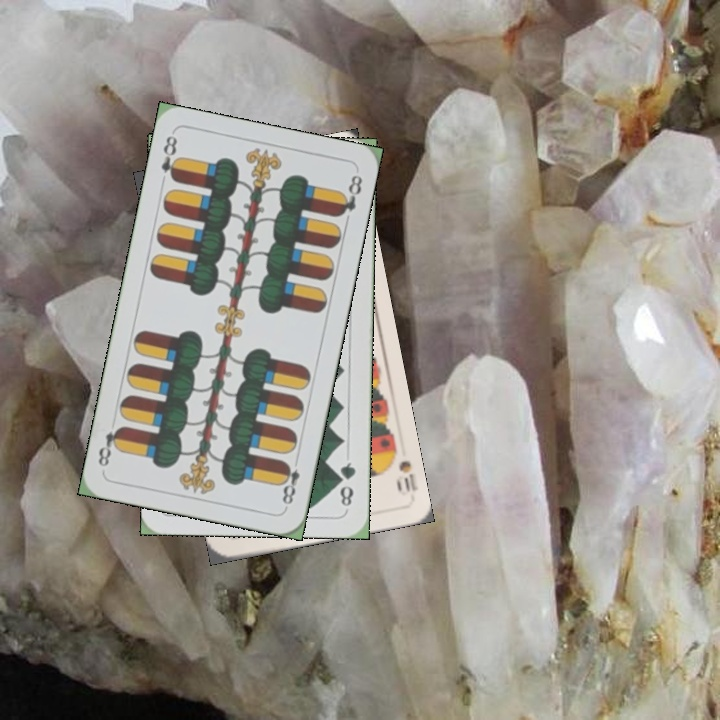E8: (277, 452, 303, 510), (157, 131, 183, 185)
G8: (334, 458, 359, 509)
S10: (387, 442, 420, 495)
